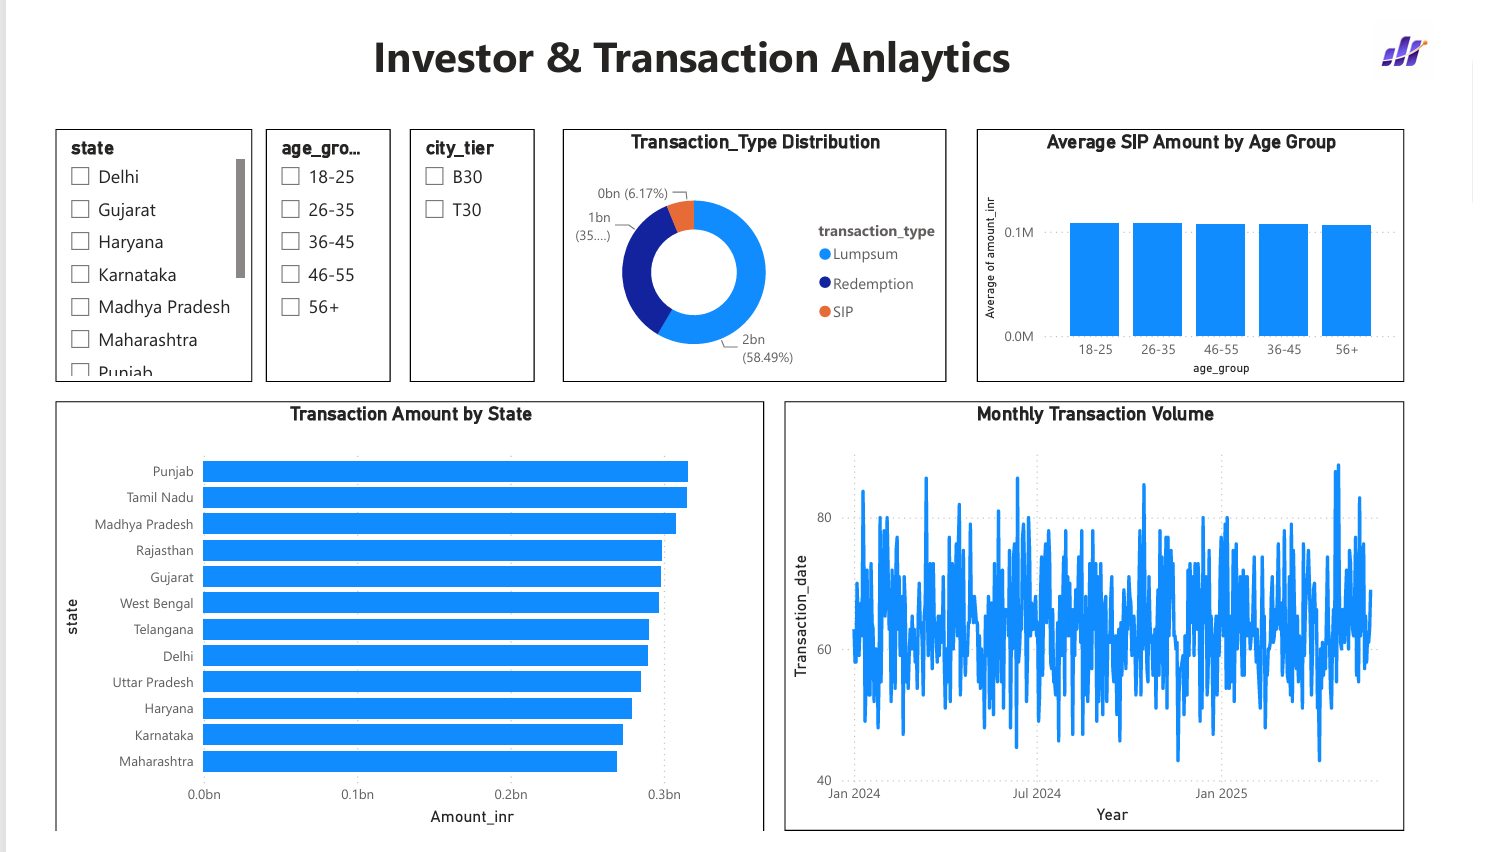

The dashboard page shown, as its layout file describes it:
{"tool":"powerbi","page":{"name":"Investor Analytics","canvas":[1280,720],"ordinal":2},"visuals":[{"type":"textbox","box":[9.9,0,1151.6,63.7],"z":0},{"type":"clusteredBarChart","title":"Transaction Amount by State","fields":{"Y":["Sum(investor_transactions_cleaned.amount_inr)"],"Category":["investor_transactions_cleaned.state"]},"box":[19.8,338.1,629.8,382.8],"z":1000},{"type":"donutChart","title":"Transaction_Type Distribution","fields":{"Y":["Sum(investor_transactions_cleaned.amount_inr)"],"Category":["investor_transactions_cleaned.transaction_type"]},"box":[471.1,96.2,340.9,224.9],"z":2000},{"type":"clusteredColumnChart","title":"Average SIP Amount by Age Group","fields":{"Category":["investor_transactions_cleaned.age_group"],"Y":["Avg(investor_transactions_cleaned.amount_inr)"]},"box":[838.9,96.2,380.5,224.9],"z":3000},{"type":"lineChart","title":"Monthly Transaction Volume","fields":{"Y":["CountNonNull(investor_transactions_cleaned.transaction_date)"],"Category":["investor_transactions_cleaned.transaction_date.Variation.Date Hierarchy.Year","investor_transactions_cleaned.transaction_date.Variation.Date Hierarchy.Quarter","investor_transactions_cleaned.transaction_date.Variation.Date Hierarchy.Month","investor_transactions_cleaned.transaction_date.Variation.Date Hierarchy.Day"]},"box":[667.7,338.1,551.7,382],"z":4000},{"type":"slicer","fields":{"Values":["investor_transactions_cleaned.state"]},"box":[19.8,96.2,175.4,224.9],"z":5000},{"type":"slicer","fields":{"Values":["investor_transactions_cleaned.age_group"]},"box":[206.5,96.2,111.8,224.9],"z":6000},{"type":"slicer","fields":{"Values":["investor_transactions_cleaned.city_tier"]},"box":[335.3,96.2,110.3,224.9],"z":7000},{"type":"image","box":[1185.5,0,66.5,53.8],"z":7001}]}

Visuals, with their boxes in screenshot pixels (x1, y1, x2, y2), scaled from the page's 1280x720 canvas onto the 1500x852 screenshot:
textbox: crop(12, 0, 1361, 75)
"Transaction Amount by State" clusteredBarChart: crop(23, 400, 761, 851)
"Transaction_Type Distribution" donutChart: crop(552, 114, 952, 380)
"Average SIP Amount by Age Group" clusteredColumnChart: crop(983, 114, 1429, 380)
"Monthly Transaction Volume" lineChart: crop(782, 400, 1429, 851)
slicer - investor_transactions_cleaned.state: crop(23, 114, 229, 380)
slicer - investor_transactions_cleaned.age_group: crop(242, 114, 373, 380)
slicer - investor_transactions_cleaned.city_tier: crop(393, 114, 522, 380)
image: crop(1389, 0, 1467, 64)
